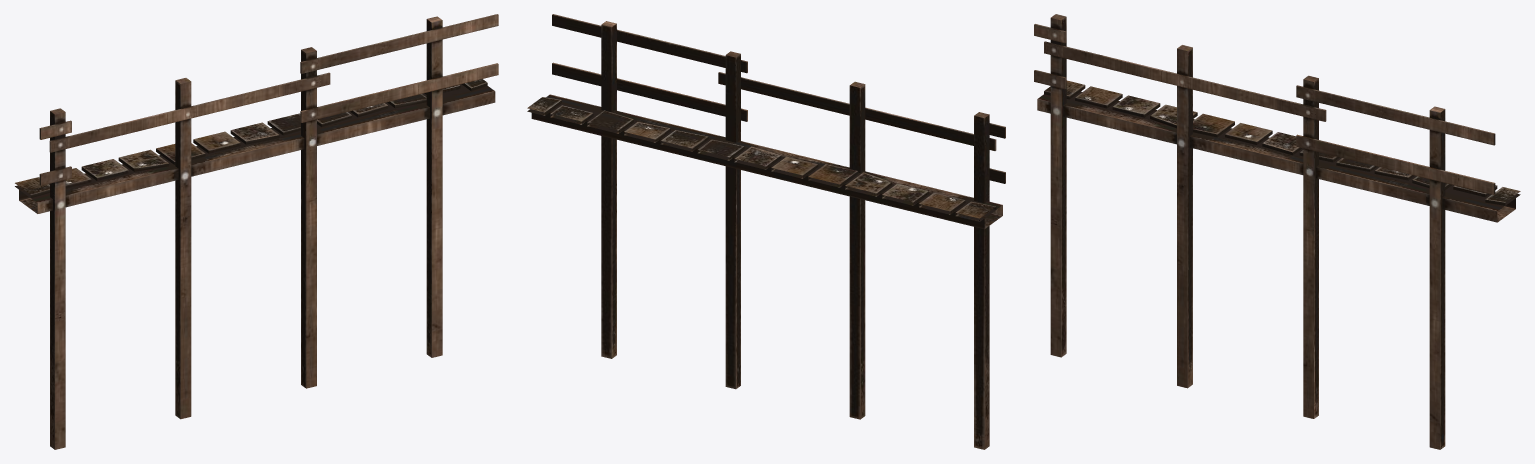
The model's file is wharf-piles.glb.
The picture shows the model from 3 angles, left to right: view 1: azimuth 30°, elevation 25°; view 2: azimuth 150°, elevation 25°; view 3: azimuth 330°, elevation 25°; orthographic projection.
Parts seen in each view (by area): view 1: wharf-piles; view 2: wharf-piles; view 3: wharf-piles.
Part boxes in pixels (x1,y1,x2,y2): wharf-piles: (15, 14, 498, 449); wharf-piles: (527, 14, 1005, 449); wharf-piles: (1034, 14, 1520, 449).
Size of the model in its own units: 2 by 1.4 by 0.2.
1 material, 1 textured.
